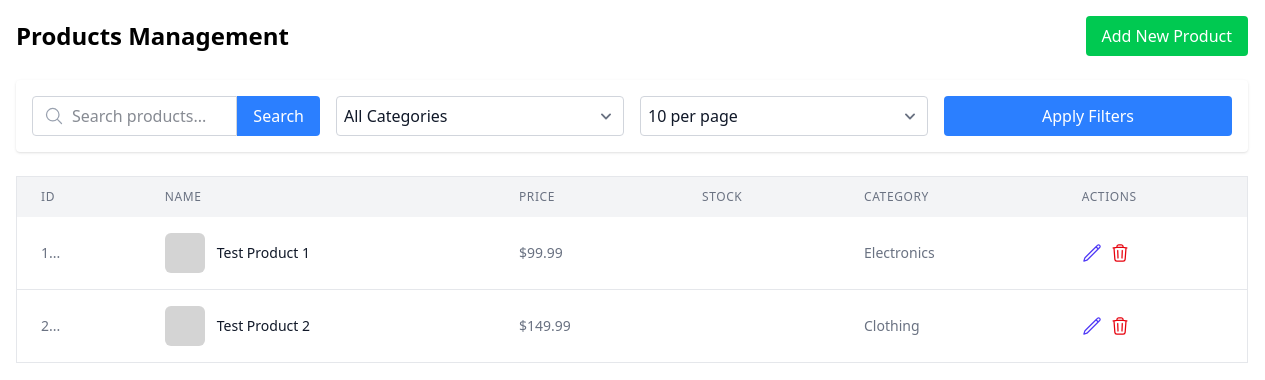
Test: AdminProductList Component › should delete a product when delete button is clicked
Check: the text "Test Product 1" is shown, box [217, 243, 310, 263]
Find and click the delete button for the first product
Click the button named "delete product" in the row of "Test Product 1": (1120,253) [1110, 243, 1130, 263]
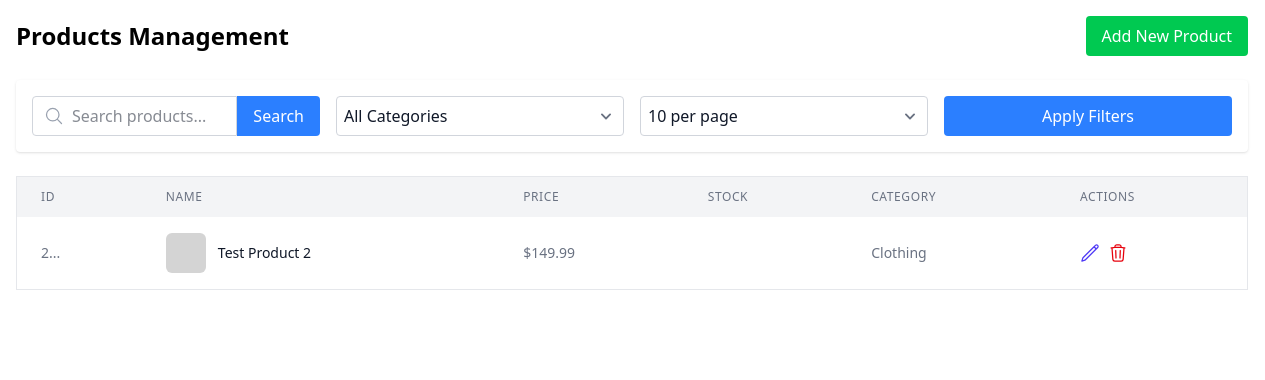
Check: the text "Test Product 2" is shown, box [218, 243, 311, 263]
Check: the text "Test Product 1" is gone
